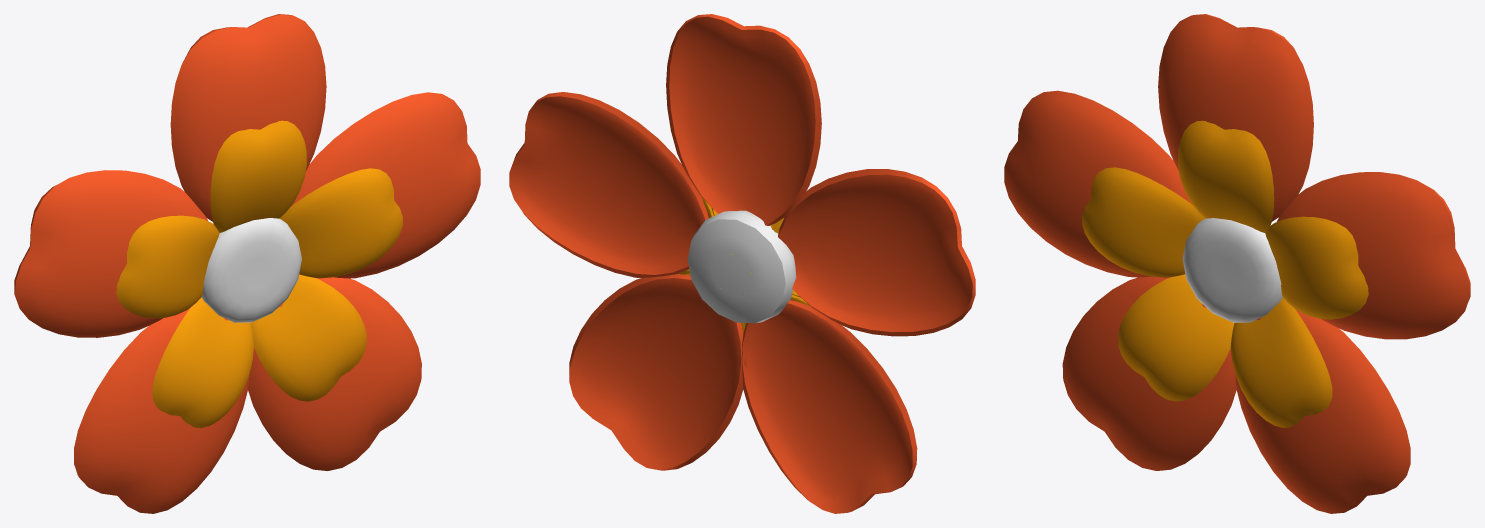
Rendered from rosette.gltf.
3 renders of one model, left to right at view 1: azimuth 30°, elevation 25°; view 2: azimuth 150°, elevation 25°; view 3: azimuth 330°, elevation 25°, orthographic.
Visible parts, largest first — view 1: Cube.173; view 2: Cube.173; view 3: Cube.173.
Boxes of the visible parts, <box> form: Cube.173: <box>14,14,480,513</box>; Cube.173: <box>509,14,975,513</box>; Cube.173: <box>1004,14,1470,513</box>.
Bounding box in the file's own units: 2.22 × 2.14 × 0.2407.
1 material, 1 textured.
